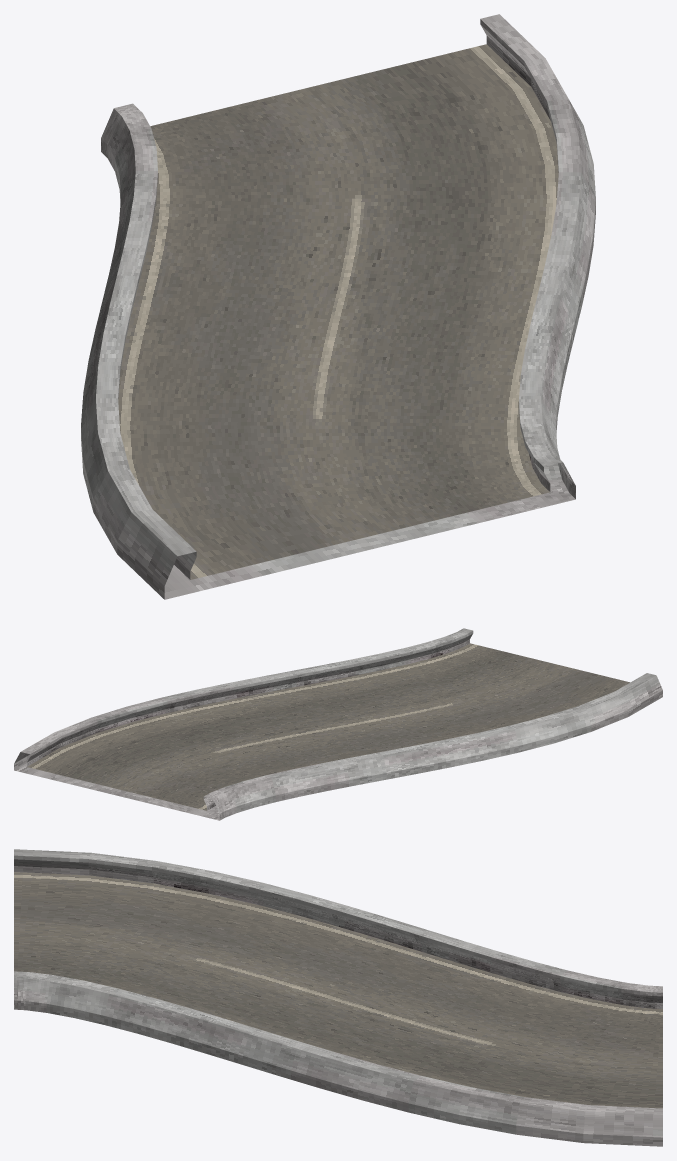
Rendered from road-Chicane-Flat-Flat-Even-Right1-Size2.glb.
3 views of the same model, one above another, from view 1: azimuth 30°, elevation 25°; view 2: azimuth 150°, elevation 25°; view 3: azimuth 270°, elevation 25° (orthographic). The views are drawn at different scales.
Visible parts, largest first — view 1: road-Chicane-Flat-Flat-Even-Right1-Size2; view 2: road-Chicane-Flat-Flat-Even-Right1-Size2; view 3: road-Chicane-Flat-Flat-Even-Right1-Size2.
Boxes of the visible parts, left/top/right/bottom form: road-Chicane-Flat-Flat-Even-Right1-Size2: left=81, top=14, right=595, bottom=599; road-Chicane-Flat-Flat-Even-Right1-Size2: left=14, top=628, right=662, bottom=820; road-Chicane-Flat-Flat-Even-Right1-Size2: left=14, top=849, right=662, bottom=1146.
Size of the model in its own units: 2 by 0.0938 by 2.
Materials: 2 (2 with a texture image).
